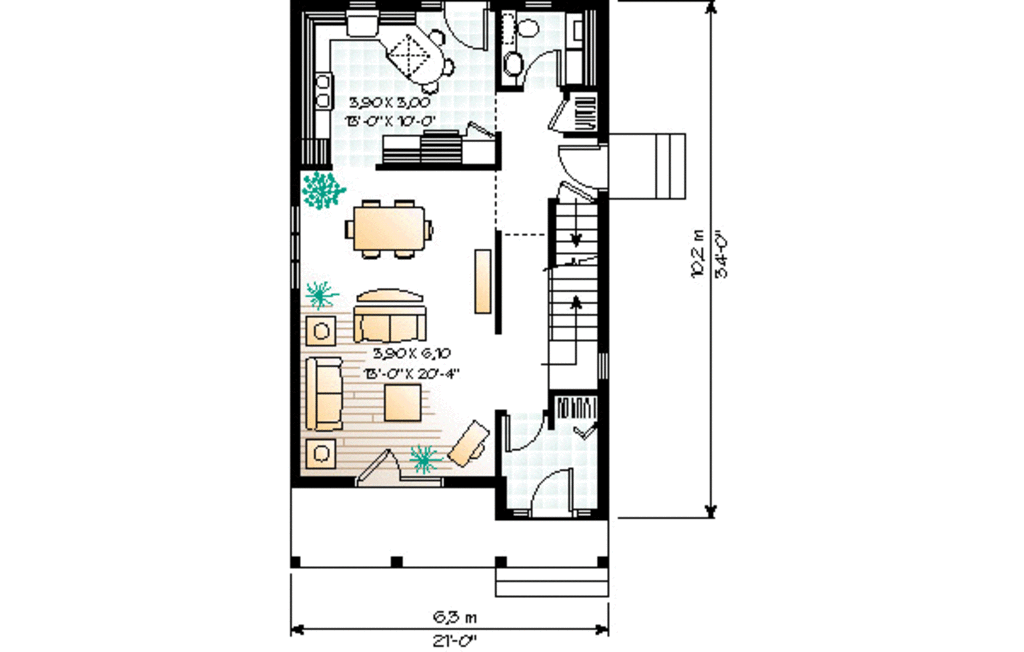dining_table: (326, 198, 451, 273)
door: (551, 140, 618, 194), (440, 1, 495, 55), (496, 410, 553, 456), (529, 465, 576, 518), (521, 48, 568, 89), (355, 449, 401, 488), (549, 176, 593, 206), (542, 94, 571, 131)
kitchen_bar: (388, 19, 463, 108)
large_sink: (501, 7, 545, 47)
large_sofa: (297, 350, 357, 437), (352, 301, 432, 347)
small_sink: (494, 46, 529, 92)
stairs: (548, 206, 604, 389), (622, 131, 690, 210)
twin_sink: (313, 68, 342, 112)
